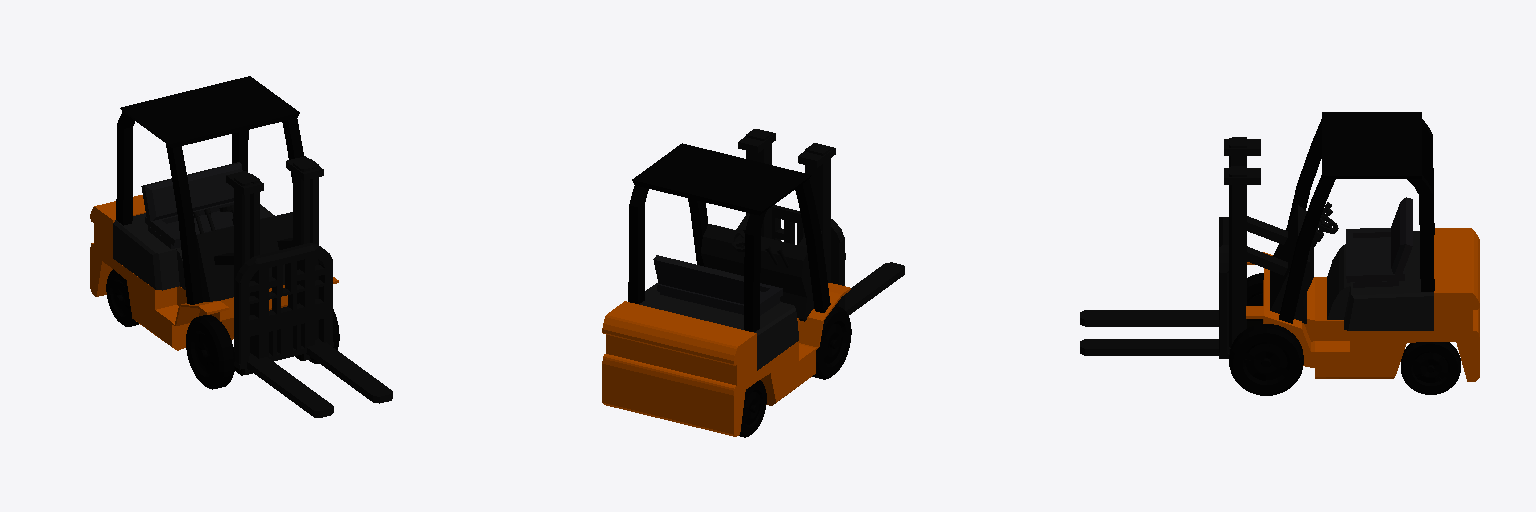
File: Forklift.obj
3 views of the same model, side by side, from view 1: azimuth 30°, elevation 25°; view 2: azimuth 150°, elevation 25°; view 3: azimuth 270°, elevation 25° (orthographic).
Parts seen in each view (by area): view 1: obj6, obj17, obj12, obj16, obj14, obj7, obj11, obj8, obj26, obj9, obj15, obj24 (+1 smaller); view 2: obj12, obj6, obj7, obj11, obj8, obj16, obj17, obj14, obj26, obj9, obj15, obj24 (+1 smaller); view 3: obj12, obj6, obj11, obj14, obj16, obj7, obj28, obj9, obj22, obj17, obj8, obj29 (+2 smaller).
Part boxes in pixels (x1,y1,x2,y2): obj6: (116, 76, 303, 304); obj17: (234, 243, 333, 369); obj12: (90, 195, 338, 350); obj16: (234, 159, 318, 374); obj14: (247, 338, 392, 417); obj7: (196, 212, 292, 301); obj11: (113, 204, 274, 290); obj8: (141, 162, 242, 220); obj26: (186, 315, 234, 389); obj9: (145, 201, 270, 245); obj15: (226, 156, 323, 194); obj24: (106, 269, 138, 326); obj12: (602, 283, 850, 436); obj6: (628, 143, 830, 331); obj7: (701, 213, 821, 321); obj11: (639, 283, 798, 370); obj8: (653, 255, 743, 303); obj16: (746, 129, 830, 282); obj17: (772, 205, 844, 309); obj14: (845, 253, 904, 315); obj26: (812, 306, 851, 379); obj9: (657, 283, 782, 311); obj15: (738, 132, 835, 167); obj24: (739, 380, 766, 437); obj12: (1246, 228, 1479, 381); obj6: (1279, 112, 1434, 323); obj11: (1327, 231, 1433, 330); obj14: (1080, 310, 1230, 355); obj16: (1229, 137, 1246, 347); obj7: (1247, 205, 1313, 323); obj28: (1229, 324, 1303, 395); obj9: (1346, 228, 1404, 282); obj22: (1401, 342, 1460, 394); obj17: (1219, 217, 1228, 358); obj8: (1391, 197, 1412, 277); obj29: (1244, 344, 1287, 380).
Bounding box in the file's own units: 273 × 444 × 718.